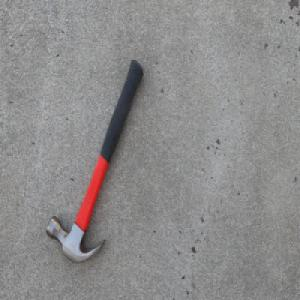Hammer: (45, 58, 143, 265)
